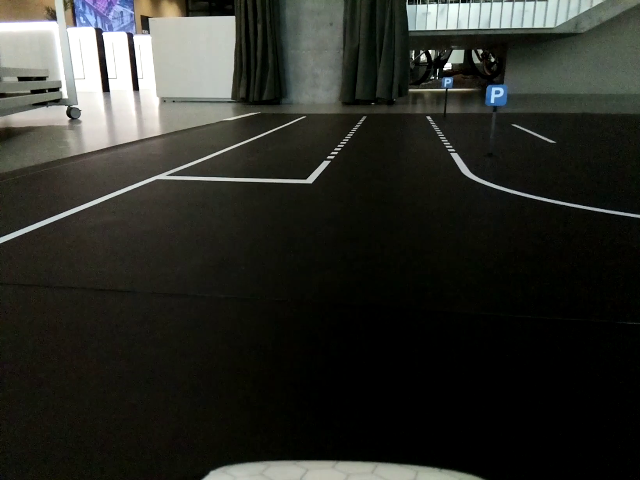park: (486, 87, 508, 105), (442, 78, 455, 89)
